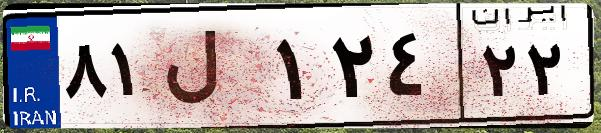1: (270, 28, 330, 110), (110, 28, 158, 98)
2: (330, 28, 385, 110), (475, 38, 525, 113), (525, 38, 570, 115)
4: (385, 28, 445, 110)
8: (57, 26, 110, 100)
ل: (158, 20, 270, 120)
